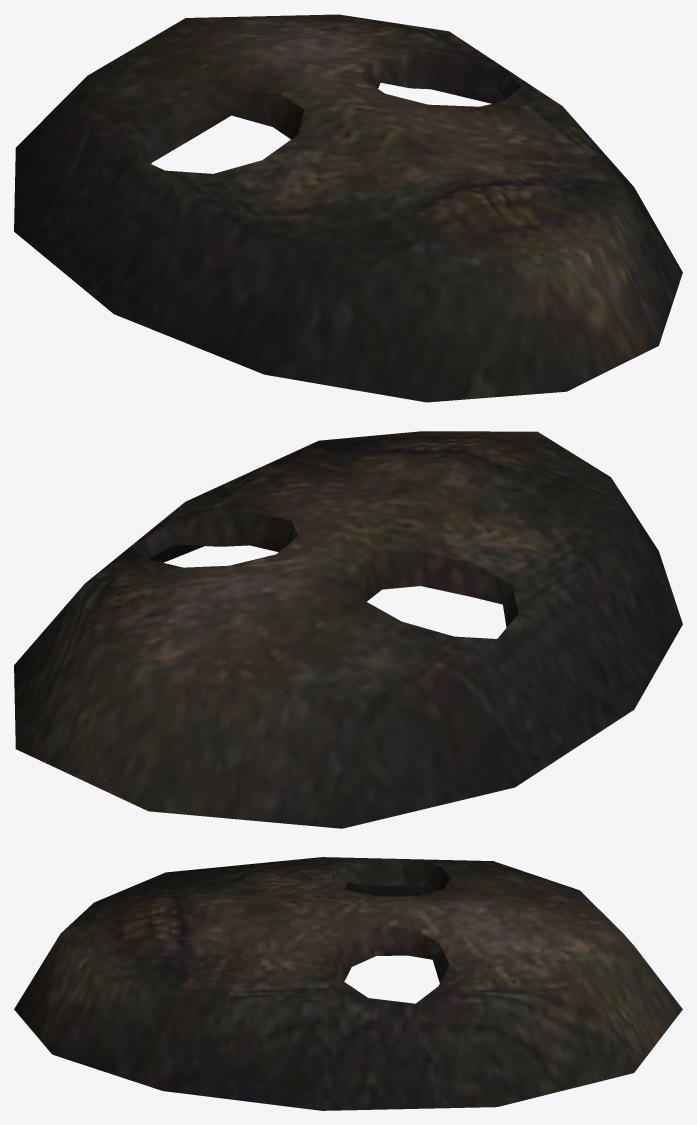
File: mask_mx_3.fbx
3 renders of one model, top to bottom at view 1: azimuth 30°, elevation 25°; view 2: azimuth 150°, elevation 25°; view 3: azimuth 270°, elevation 25°, orthographic. The views are drawn at different scales.
Parts seen in each view (by area): view 1: mask_mx_3; view 2: mask_mx_3; view 3: mask_mx_3.
Part boxes in pixels (x1,y1,x2,y2): mask_mx_3: (14,14,682,402); mask_mx_3: (14,431,682,828); mask_mx_3: (14,857,682,1110).
Size of the model in its own units: 0.2297 by 0.3198 by 0.0554.
